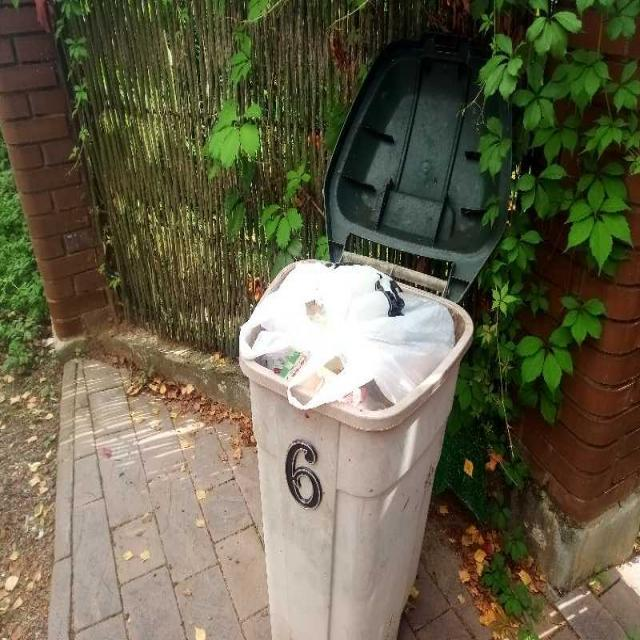Dumpster: (237, 35, 511, 640)
